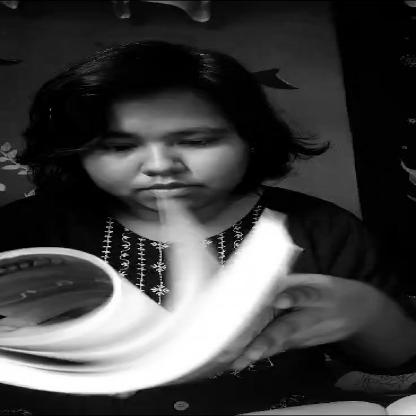Normal: (79, 90, 269, 207)
